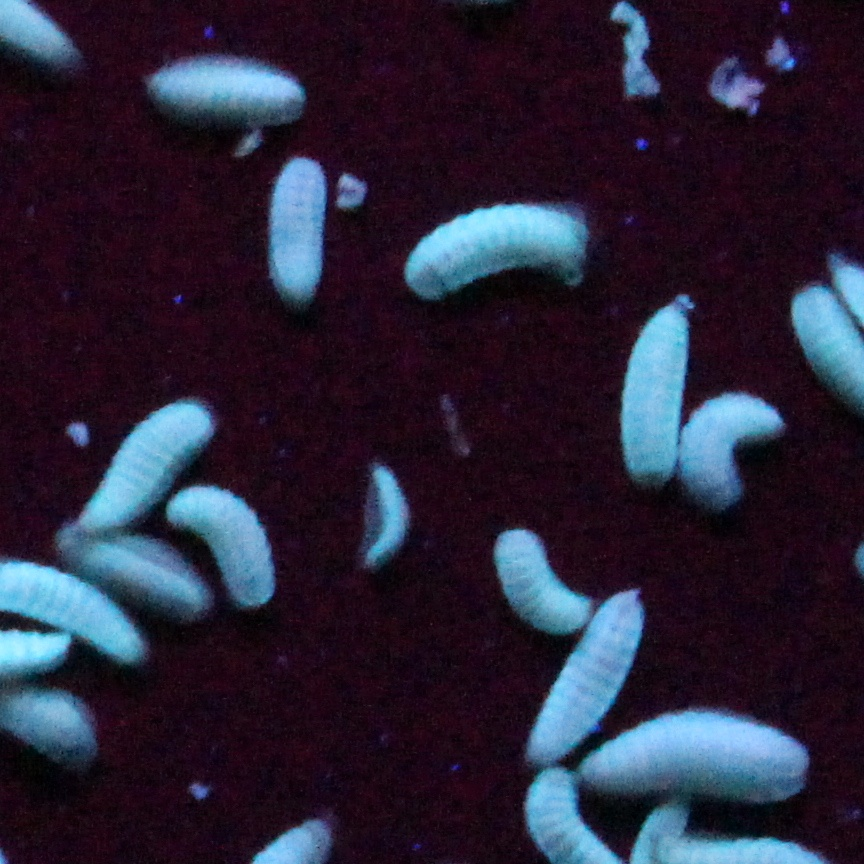larve: (58, 412, 224, 532), (404, 198, 598, 292), (538, 605, 644, 752), (184, 492, 291, 605), (584, 725, 784, 785), (624, 285, 684, 478), (698, 378, 778, 518), (491, 518, 584, 632), (151, 65, 304, 125), (367, 454, 413, 577), (278, 152, 318, 292)
